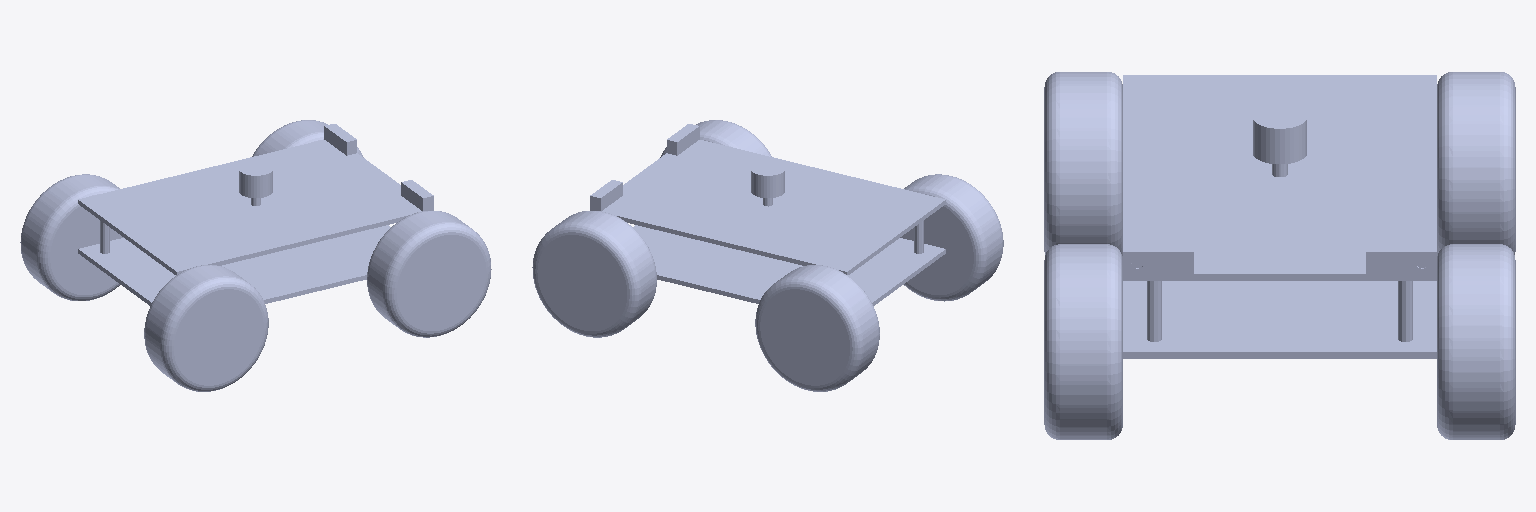
The robot description file, URDF, robot "robhar_2":
<?xml version="1.0" encoding="utf-8"?>
<!-- robhar_2.urdf from SW2URDF, patched: masses, inertias, wheel axes, primitive collisions, sensor frames, wheel friction -->
<robot name="robhar_2">
  <link name="base_link">
    <inertial>
      <origin xyz="1.47899105337068E-15 -1.1116918404485E-14 -8.75580097651851E-05" rpy="0 0 0" />
      <mass value="8" />
      <inertia ixx="0.133396" ixy="0" ixz="0" iyy="0.271964" iyz="0" izz="0.357723" />
    </inertial>
    <visual>
      <origin xyz="0 0 0" rpy="0 0 0" />
      <geometry>
        <mesh filename="package://robhar_2/meshes/base_link.STL" />
      </geometry>
      <material name="">
        <color rgba="0.792156862745098 0.819607843137255 0.933333333333333 1" />
      </material>
    </visual>
    <collision>
      <origin xyz="0 0 0" rpy="0 0 0" />
      <geometry>
        <box size="0.6 0.4 0.12" />
      </geometry>
    </collision>
  </link>
  <link name="wheel_fl">
    <inertial>
      <origin xyz="0 1.5414E-05 -6.9389E-18" rpy="0 0 0" />
      <mass value="0.8" />
      <inertia ixx="0.00379167" ixy="0" ixz="0" iyy="0.00625" iyz="0" izz="0.00379167" />
    </inertial>
    <visual>
      <origin xyz="0 0 0" rpy="0 0 0" />
      <geometry>
        <mesh filename="package://robhar_2/meshes/wheel_fl.STL" />
      </geometry>
      <material name="">
        <color rgba="0.79216 0.81961 0.93333 1" />
      </material>
    </visual>
    <collision>
      <origin xyz="0 0 0" rpy="1.5708 0 0" />
      <geometry>
        <cylinder radius="0.125" length="0.1" />
      </geometry>
    </collision>
  </link>
  <joint name="wheel_fl_joint" type="continuous">
    <origin xyz="0.26 0.25 -0.055" rpy="0 0 0" />
    <parent link="base_link" />
    <child link="wheel_fl" />
    <axis xyz="0 1 0" />
  </joint>
  <link name="wheel_fr">
    <inertial>
      <origin xyz="-5.5511E-17 -1.5414E-05 -6.9389E-18" rpy="0 0 0" />
      <mass value="0.8" />
      <inertia ixx="0.00379167" ixy="0" ixz="0" iyy="0.00625" iyz="0" izz="0.00379167" />
    </inertial>
    <visual>
      <origin xyz="0 0 0" rpy="0 0 0" />
      <geometry>
        <mesh filename="package://robhar_2/meshes/wheel_fr.STL" />
      </geometry>
      <material name="">
        <color rgba="0.79216 0.81961 0.93333 1" />
      </material>
    </visual>
    <collision>
      <origin xyz="0 0 0" rpy="1.5708 0 0" />
      <geometry>
        <cylinder radius="0.125" length="0.1" />
      </geometry>
    </collision>
  </link>
  <joint name="wheel_fr_joint" type="continuous">
    <origin xyz="0.26 -0.25 -0.055" rpy="0 0 0" />
    <parent link="base_link" />
    <child link="wheel_fr" />
    <axis xyz="0 1 0" />
  </joint>
  <link name="wheel_rl">
    <inertial>
      <origin xyz="5.5511E-17 1.5414E-05 0" rpy="0 0 0" />
      <mass value="0.8" />
      <inertia ixx="0.00379167" ixy="0" ixz="0" iyy="0.00625" iyz="0" izz="0.00379167" />
    </inertial>
    <visual>
      <origin xyz="0 0 0" rpy="0 0 0" />
      <geometry>
        <mesh filename="package://robhar_2/meshes/wheel_rl.STL" />
      </geometry>
      <material name="">
        <color rgba="0.79216 0.81961 0.93333 1" />
      </material>
    </visual>
    <collision>
      <origin xyz="0 0 0" rpy="1.5708 0 0" />
      <geometry>
        <cylinder radius="0.125" length="0.1" />
      </geometry>
    </collision>
  </link>
  <joint name="wheel_rl_joint" type="continuous">
    <origin xyz="-0.26 0.25 -0.055" rpy="0 0 0" />
    <parent link="base_link" />
    <child link="wheel_rl" />
    <axis xyz="0 1 0" />
  </joint>
  <link name="wheel_rr">
    <inertial>
      <origin xyz="0 -1.5414E-05 0" rpy="0 0 0" />
      <mass value="0.8" />
      <inertia ixx="0.00379167" ixy="0" ixz="0" iyy="0.00625" iyz="0" izz="0.00379167" />
    </inertial>
    <visual>
      <origin xyz="0 0 0" rpy="0 0 0" />
      <geometry>
        <mesh filename="package://robhar_2/meshes/wheel_rr.STL" />
      </geometry>
      <material name="">
        <color rgba="0.79216 0.81961 0.93333 1" />
      </material>
    </visual>
    <collision>
      <origin xyz="0 0 0" rpy="1.5708 0 0" />
      <geometry>
        <cylinder radius="0.125" length="0.1" />
      </geometry>
    </collision>
  </link>
  <joint name="wheel_rr_joint" type="continuous">
    <origin xyz="-0.26 -0.25 -0.055" rpy="0 0 0" />
    <parent link="base_link" />
    <child link="wheel_rr" />
    <axis xyz="0 1 0" />
  </joint>
  <link name="lidar_level">
    <inertial>
      <origin xyz="9.7717E-19 0 0.053132" rpy="0 0 0" />
      <mass value="0.20185" />
      <inertia ixx="0.00011434" ixy="1.333E-37" ixz="-3.8123E-21" iyy="0.00011434" iyz="-3.3363E-37" izz="0.00011833" />
    </inertial>
    <visual>
      <origin xyz="0 0 0" rpy="0 0 0" />
      <geometry>
        <mesh filename="package://robhar_2/meshes/lidar_level.STL" />
      </geometry>
      <material name="">
        <color rgba="0.79216 0.81961 0.93333 1" />
      </material>
    </visual>
    <collision>
      <origin xyz="0 0 0" rpy="0 0 0" />
      <geometry>
        <mesh filename="package://robhar_2/meshes/lidar_level.STL" />
      </geometry>
    </collision>
  </link>
  <joint name="lidar_level_joint" type="fixed">
    <origin xyz="0 0 0.06" rpy="0 0 0" />
    <parent link="base_link" />
    <child link="lidar_level" />
  </joint>
  <link name="camera_left">
    <inertial>
      <origin xyz="0.012464 -7.827E-05 0" rpy="0 0 0" />
      <mass value="0.067299" />
      <inertia ixx="5.048E-05" ixy="6.3399E-08" ixz="-2.6652E-22" iyy="8.5459E-06" iyz="-1.9462E-20" izz="4.8907E-05" />
    </inertial>
    <visual>
      <origin xyz="0 0 0" rpy="0 0 0" />
      <geometry>
        <mesh filename="package://robhar_2/meshes/camera_left.STL" />
      </geometry>
      <material name="">
        <color rgba="0.79216 0.81961 0.93333 1" />
      </material>
    </visual>
    <collision>
      <origin xyz="0 0 0" rpy="0 0 0" />
      <geometry>
        <mesh filename="package://robhar_2/meshes/camera_left.STL" />
      </geometry>
    </collision>
  </link>
  <joint name="camera_left_joint" type="fixed">
    <origin xyz="0.275 0.155 0.075" rpy="0 0 0" />
    <parent link="base_link" />
    <child link="camera_left" />
  </joint>
  <link name="camera_right">
    <inertial>
      <origin xyz="0.012464 7.827E-05 0" rpy="0 0 0" />
      <mass value="0.067299" />
      <inertia ixx="5.048E-05" ixy="-6.3399E-08" ixz="3.3356E-22" iyy="8.5459E-06" iyz="2.5594E-21" izz="4.8907E-05" />
    </inertial>
    <visual>
      <origin xyz="0 0 0" rpy="0 0 0" />
      <geometry>
        <mesh filename="package://robhar_2/meshes/camera_right.STL" />
      </geometry>
      <material name="">
        <color rgba="0.79216 0.81961 0.93333 1" />
      </material>
    </visual>
    <collision>
      <origin xyz="0 0 0" rpy="0 0 0" />
      <geometry>
        <mesh filename="package://robhar_2/meshes/camera_right.STL" />
      </geometry>
    </collision>
  </link>
  <joint name="camera_right_joint" type="fixed">
    <origin xyz="0.275 -0.155 0.075" rpy="0 0 0" />
    <parent link="base_link" />
    <child link="camera_right" />
  </joint>
  <link name="lidar_level_scan" />
  <joint name="lidar_level_scan_joint" type="fixed">
    <origin xyz="0 0 0.055" rpy="0 0 0" />
    <parent link="lidar_level" />
    <child link="lidar_level_scan" />
  </joint>
  <link name="camera_left_lens" />
  <joint name="camera_left_lens_joint" type="fixed">
    <origin xyz="0.025 0 0" rpy="0 0 0" />
    <parent link="camera_left" />
    <child link="camera_left_lens" />
  </joint>
  <link name="camera_right_lens" />
  <joint name="camera_right_lens_joint" type="fixed">
    <origin xyz="0.025 0 0" rpy="0 0 0" />
    <parent link="camera_right" />
    <child link="camera_right_lens" />
  </joint>
  <gazebo reference="wheel_fl">
    <mu1>1.0</mu1>
    <mu2>0.8</mu2>
  </gazebo>
  <gazebo reference="wheel_fr">
    <mu1>1.0</mu1>
    <mu2>0.8</mu2>
  </gazebo>
  <gazebo reference="wheel_rl">
    <mu1>1.0</mu1>
    <mu2>0.8</mu2>
  </gazebo>
  <gazebo reference="wheel_rr">
    <mu1>1.0</mu1>
    <mu2>0.8</mu2>
  </gazebo>
</robot>

--- What the picture shows (computed from the rendered views, not written in the file) ---
Views: 3 orthographic renders of the robot side by side, from view 1: azimuth 30°, elevation 25°; view 2: azimuth 150°, elevation 25°; view 3: azimuth 270°, elevation 25°.
Model robhar_2 with 11 links and 10 joints (4 continuous, 6 fixed), rooted at base_link, posed every joint at zero.
Visible links, largest first — view 1: base_link, wheel_rr, wheel_fr, wheel_rl, wheel_fl, lidar_level, camera_left, camera_right; view 2: base_link, wheel_rl, wheel_fl, wheel_rr, wheel_fr, lidar_level, camera_right, camera_left; view 3: base_link, wheel_fl, wheel_fr, wheel_rr, wheel_rl, lidar_level, camera_left, camera_right.
Link boxes in pixels (left/top/right/bottom): base_link: left=78, top=140, right=433, bottom=305; wheel_rr: left=144, top=265, right=268, bottom=391; wheel_fr: left=367, top=210, right=491, bottom=337; wheel_rl: left=20, top=174, right=123, bottom=300; wheel_fl: left=252, top=120, right=363, bottom=157; lidar_level: left=239, top=161, right=272, bottom=205; camera_left: left=324, top=124, right=356, bottom=155; camera_right: left=401, top=180, right=433, bottom=210; base_link: left=590, top=140, right=945, bottom=305; wheel_rl: left=755, top=265, right=879, bottom=391; wheel_fl: left=532, top=211, right=656, bottom=337; wheel_rr: left=900, top=174, right=1003, bottom=301; wheel_fr: left=660, top=120, right=771, bottom=157; lidar_level: left=751, top=161, right=784, bottom=206; camera_right: left=667, top=124, right=699, bottom=155; camera_left: left=590, top=180, right=622, bottom=210; base_link: left=1123, top=75, right=1436, bottom=358; wheel_fl: left=1437, top=244, right=1515, bottom=439; wheel_fr: left=1044, top=244, right=1122, bottom=439; wheel_rr: left=1044, top=72, right=1122, bottom=255; wheel_rl: left=1437, top=72, right=1515, bottom=255; lidar_level: left=1253, top=106, right=1306, bottom=176; camera_left: left=1366, top=244, right=1436, bottom=273; camera_right: left=1123, top=244, right=1193, bottom=273.
Size in the robot's own frame: 0.77 by 0.6 by 0.32 metres.
Meshes: 8 distinct files referenced, 8 mesh visuals loaded (8 binary STL).
